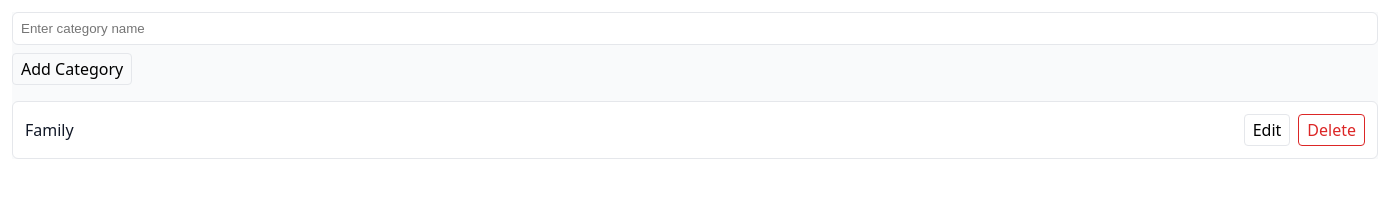
Test: CategoryManager › properly handles error message visibility
This screenshot has width=1390, height=201.
First trigger a duplicate name error
Type "Family" into the field with placeholder "Enter category name" at (695, 28), box [12,12,1378,45]
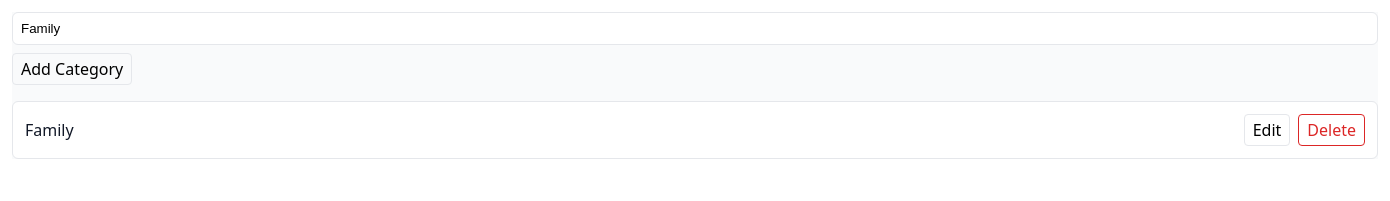
Click the button "Add Category" at (72, 69), box [12,53,132,85]
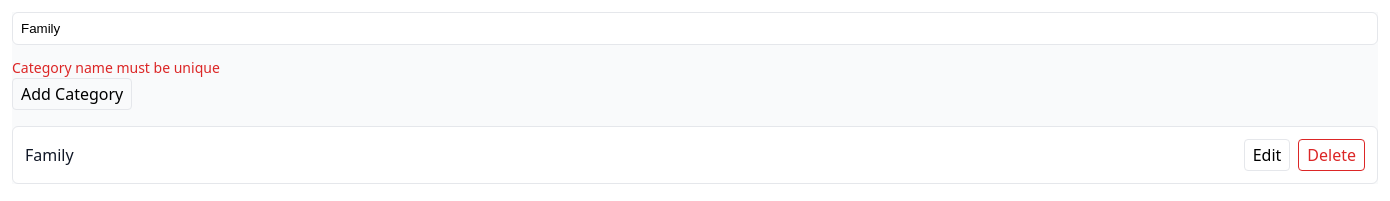
Check: the text "Category name must be unique" is shown, box [12,58,220,77]
Error should clear immediately when typing a non-duplicate name
Replace the text in the field with placeholder "Enter category name" with "Friends" at (695, 28), box [12,12,1378,45]
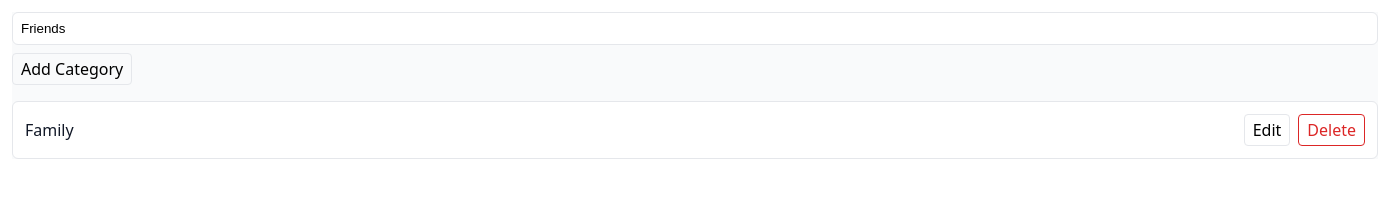
Check: the text "Category name must be unique" is gone
Test empty name error
Clear the field with placeholder "Enter category name" at (695, 28), box [12,12,1378,45]
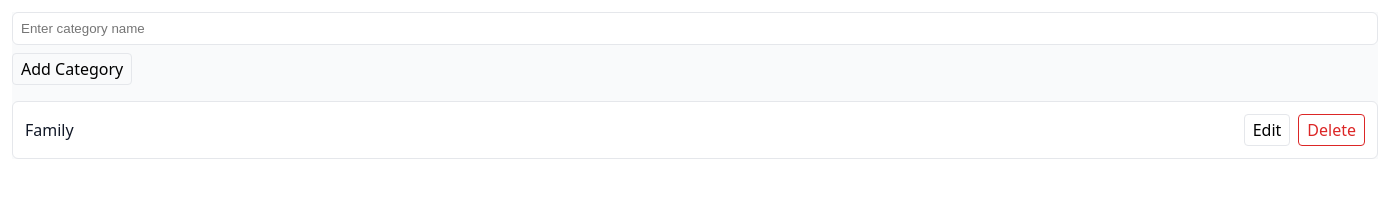
Click the button "Add Category" at (72, 69), box [12,53,132,85]
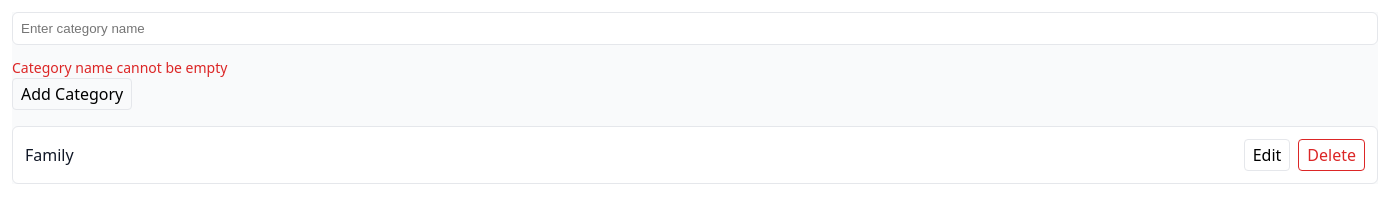
Check: the text "Category name cannot be empty" is shown, box [12,58,227,77]
Error should clear immediately when typing any non-empty value
Type "a" into the field with placeholder "Enter category name" at (695, 28), box [12,12,1378,45]
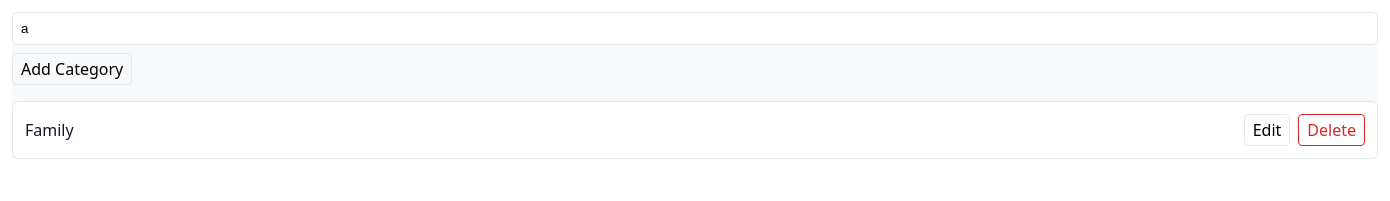
Check: the text "Category name cannot be empty" is gone
